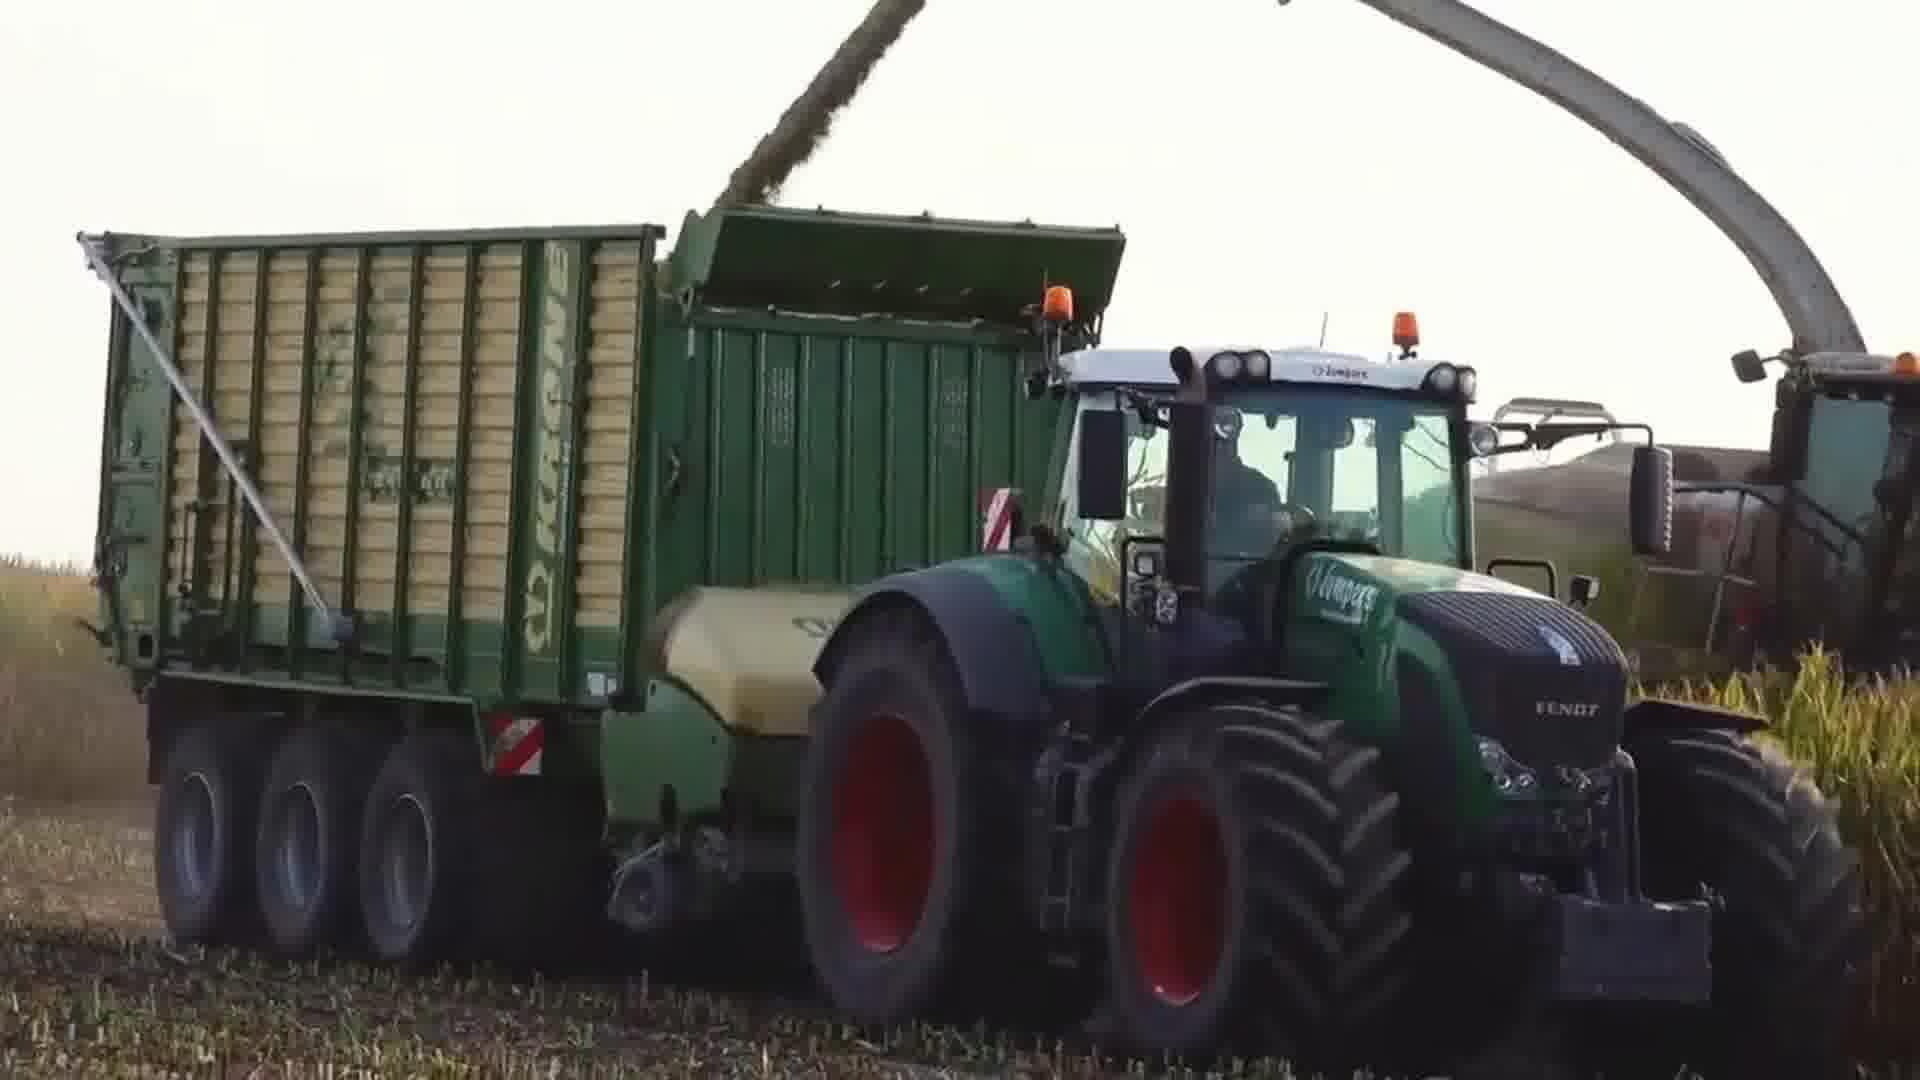combine harvester: (1360, 0, 1920, 701)
tractor: (778, 268, 1884, 1080)
trailer: (73, 199, 1127, 971)
